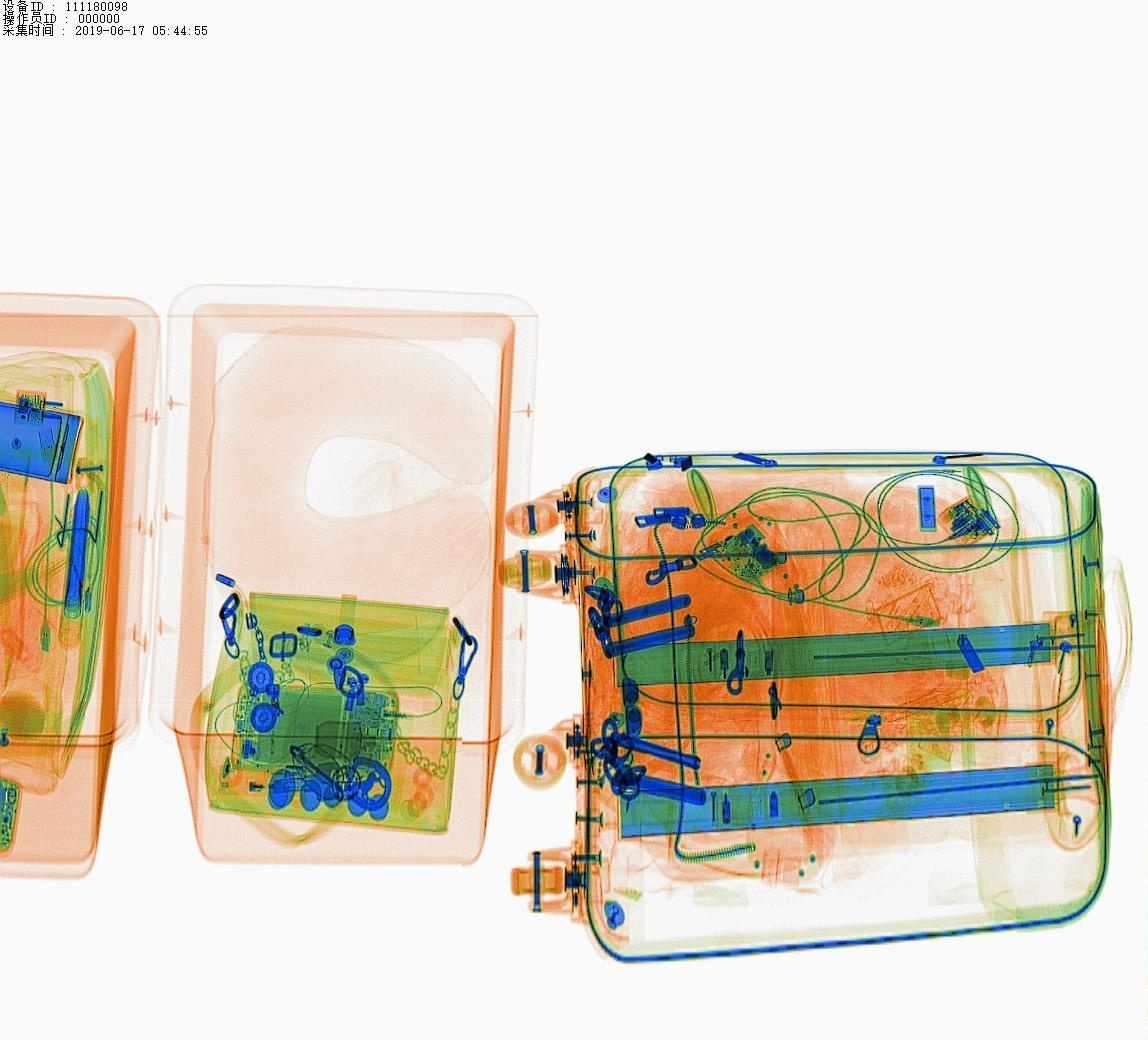NonmetallicFire: (220, 757, 315, 808)
